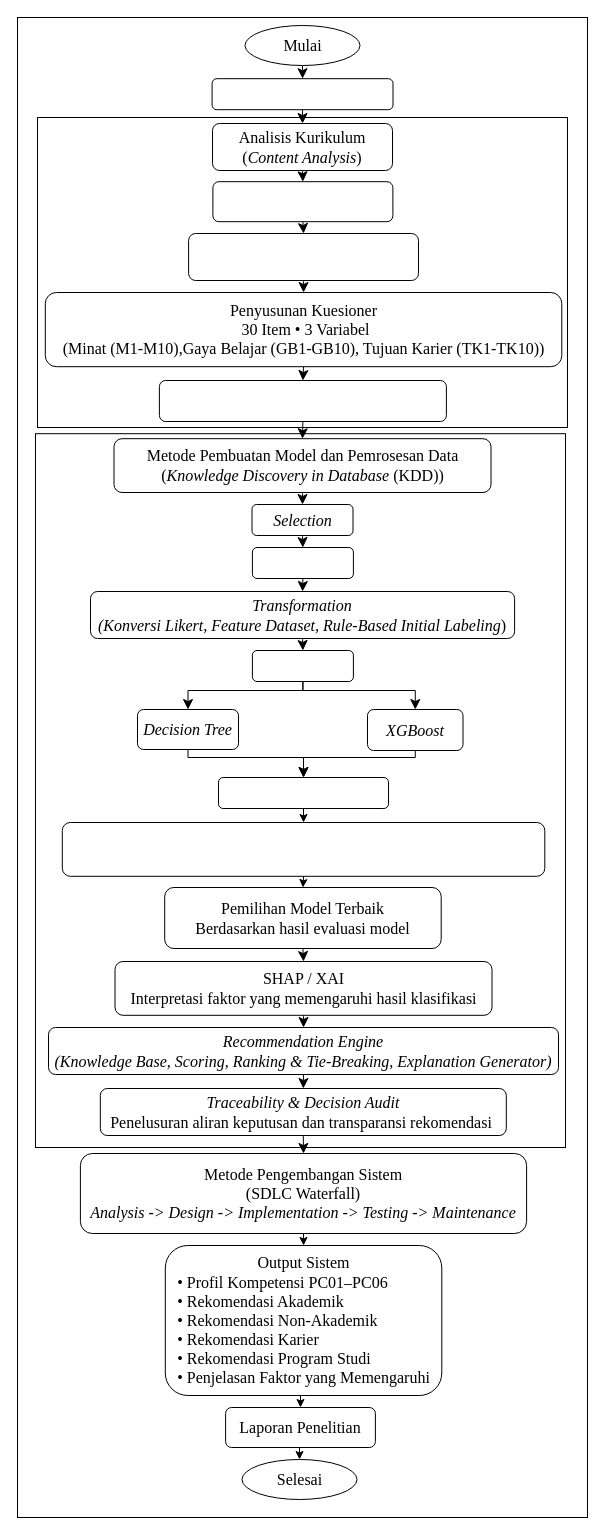
Image size: 605x1535. Some labels were removed from this diagram. Each missing label, with the centre of its shape:
"Data Mining" belongs at point (302, 666).
"Evaluation ( Confusion Matrix, Accuracy, Precision, Recall, F1-Score, ROC-AUC)" belongs at point (303, 849).
"K-Fold Cross Validation" belongs at point (303, 792).
"Metode Pengumpulan Data" belongs at point (302, 94).
"Pembentukan Profil Kompetensi 6 Profil (PC01–PC06)" belongs at point (303, 256).
"Pengumpulan Data Responden 161 Responden" belongs at point (302, 401).
"Preprocessing" belongs at point (302, 562).
"Sintesis CPL 8 Domain CPL" belongs at point (302, 201).
